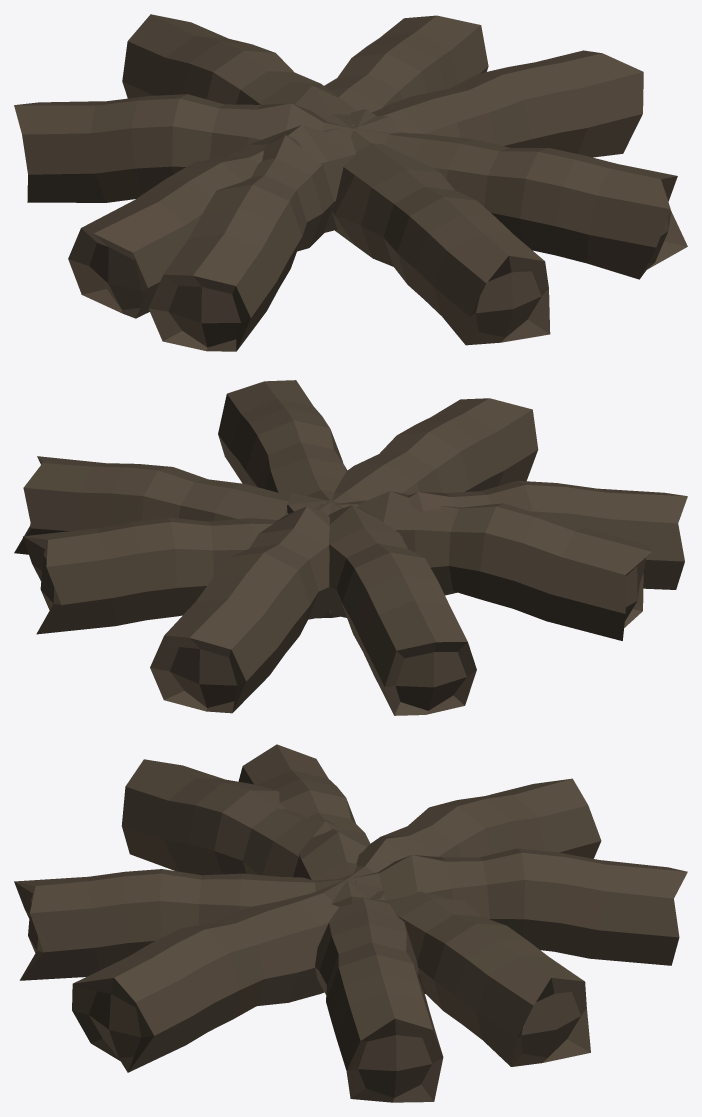
File: CampFireLogs.fbx
The picture shows the model from 3 angles, top to bottom: view 1: azimuth 30°, elevation 25°; view 2: azimuth 150°, elevation 25°; view 3: azimuth 270°, elevation 25°; orthographic projection. The views are drawn at different scales.
Parts seen in each view (by area): view 1: Cube.004, Cube.003, Cube.006, Cube.005; view 2: Cube.006, Cube.003, Cube.004, Cube.005; view 3: Cube.003, Cube.004, Cube.005, Cube.006.
Part boxes in pixels (x1,y1,x2,y2): Cube.004: (14, 94, 687, 279); Cube.003: (122, 14, 550, 345); Cube.006: (68, 50, 643, 318); Cube.005: (148, 15, 488, 351); Cube.006: (14, 456, 652, 640); Cube.003: (150, 398, 538, 713); Cube.004: (218, 380, 476, 715); Cube.005: (23, 480, 687, 634); Cube.003: (14, 848, 687, 980); Cube.004: (72, 778, 601, 1072); Cube.005: (121, 759, 590, 1066); Cube.006: (238, 744, 443, 1102).
Size of the model in its own units: 333 by 65.63 by 335.
